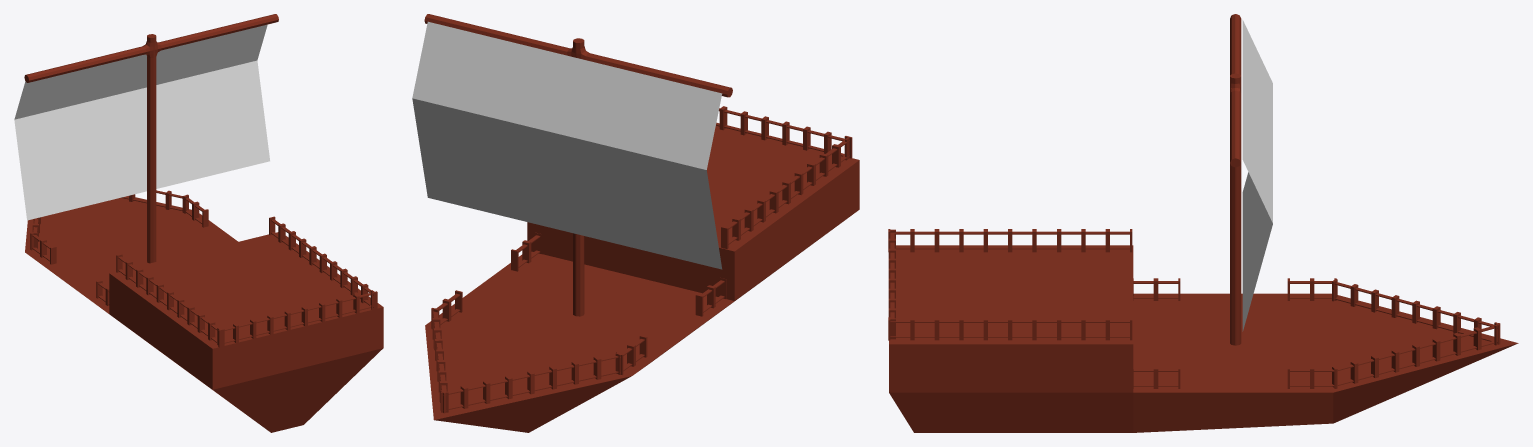
Rendered from ship.fbx.
The picture shows the model from 3 angles, left to right: view 1: azimuth 30°, elevation 25°; view 2: azimuth 150°, elevation 25°; view 3: azimuth 270°, elevation 25°; orthographic projection. The views are drawn at different scales.
Parts seen in each view (by area): view 1: Hull, Plane, Mast; view 2: Hull, Plane, Mast; view 3: Hull, Plane, Mast.
Boxes of the visible parts, x1=… form: Hull: x1=25, y1=190, x2=383, y2=432; Plane: x1=14, y1=24, x2=269, y2=220; Mast: x1=24, y1=14, x2=278, y2=263; Hull: x1=425, y1=106, x2=859, y2=432; Plane: x1=412, y1=21, x2=722, y2=269; Mast: x1=424, y1=14, x2=732, y2=316; Hull: x1=888, y1=229, x2=1518, y2=432; Plane: x1=1242, y1=20, x2=1272, y2=331; Mast: x1=1230, y1=14, x2=1241, y2=345.
Size of the model in its own units: 1538 by 1726 by 2837.
